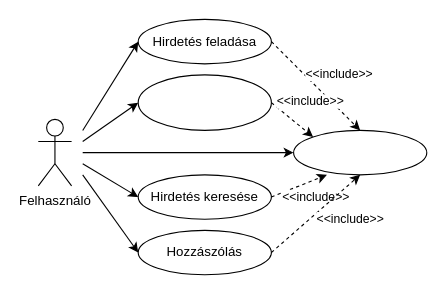
This 446x294 diagram has some shape labels left out. Here are the shapes that lost their labels. From the top down, the centre of each, then its label:
point (204, 102): Hirdetés megvétele (letöltés)
point (359, 152): Bejelentkezés
